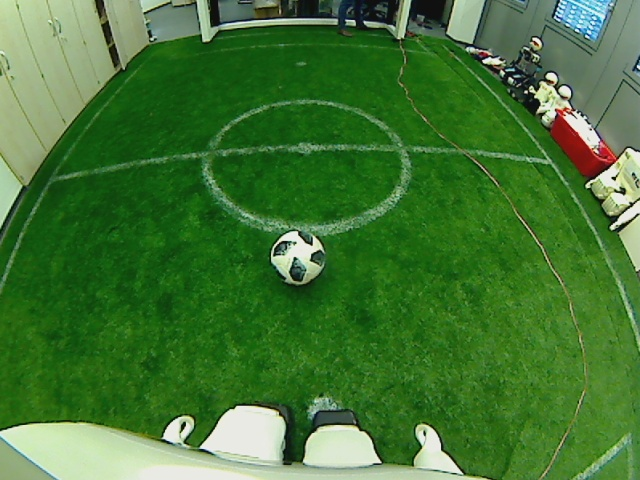ball: (268, 226, 328, 285)
